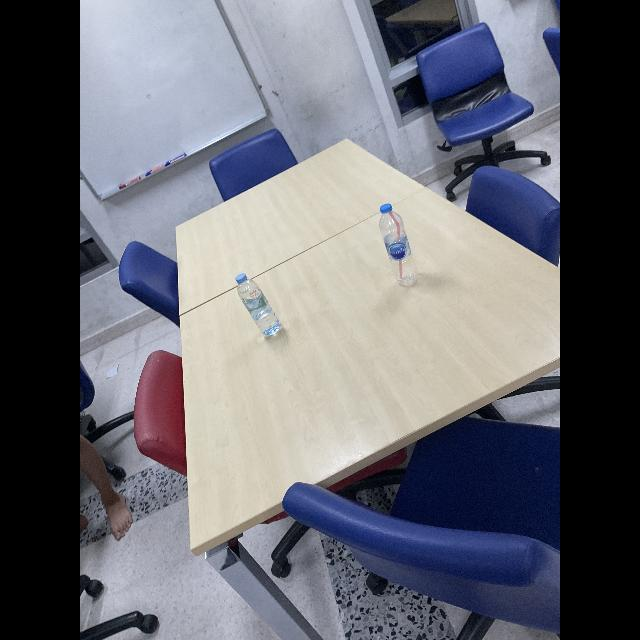plastic_bottle: (232, 270, 284, 342), (378, 204, 420, 288)
plastic_bottle_cap: (236, 272, 250, 284), (380, 202, 394, 214)
straw: (390, 216, 406, 284)
